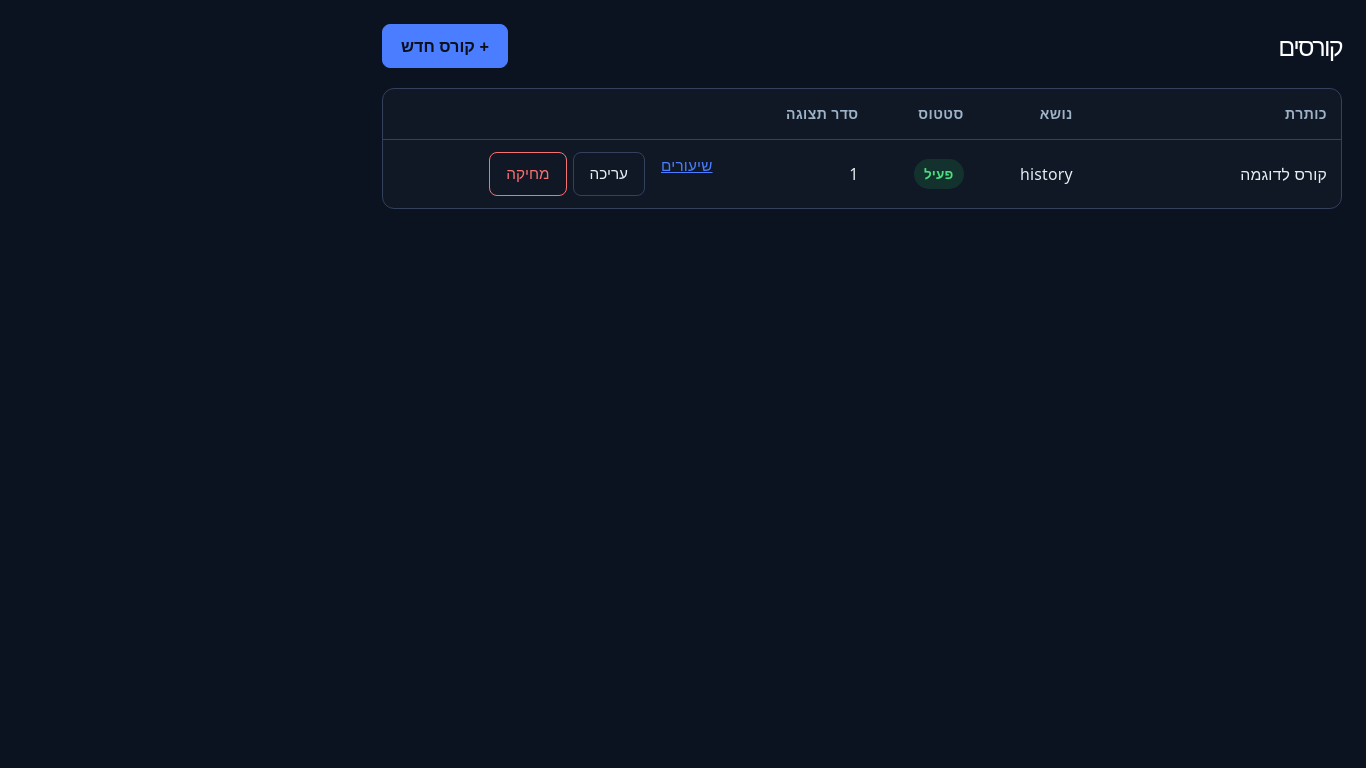
Test case: AdminCourses › prefills the course NPC section with sensible, non-empty defaults as soon as the create form opens
This screenshot has width=1366, height=768.
Click the button "+ קורס חדש": x=445, y=46 [382, 24, 508, 68]
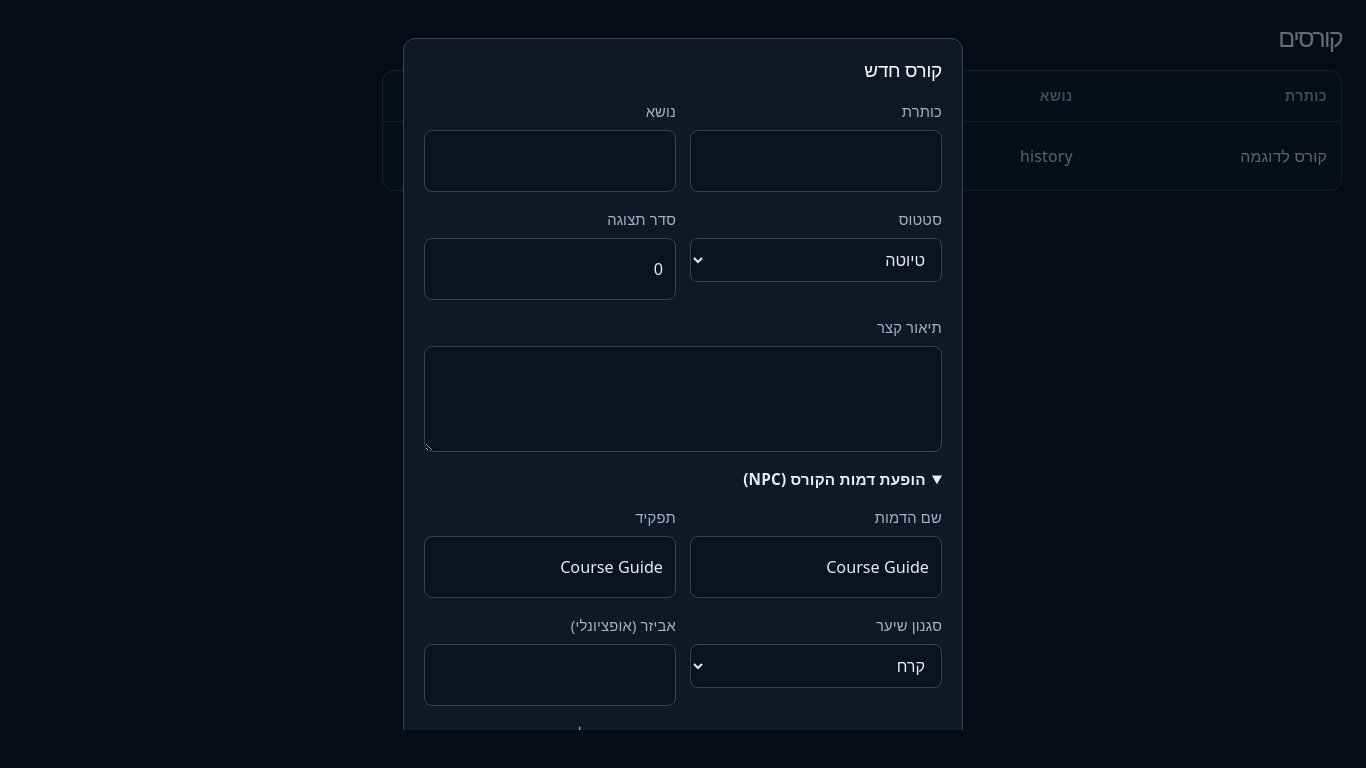
Expected: the field labelled "שם הדמות" is not empty, [690, 536, 942, 598]
Expected: the field labelled "תפקיד" is not empty, [424, 536, 676, 598]
